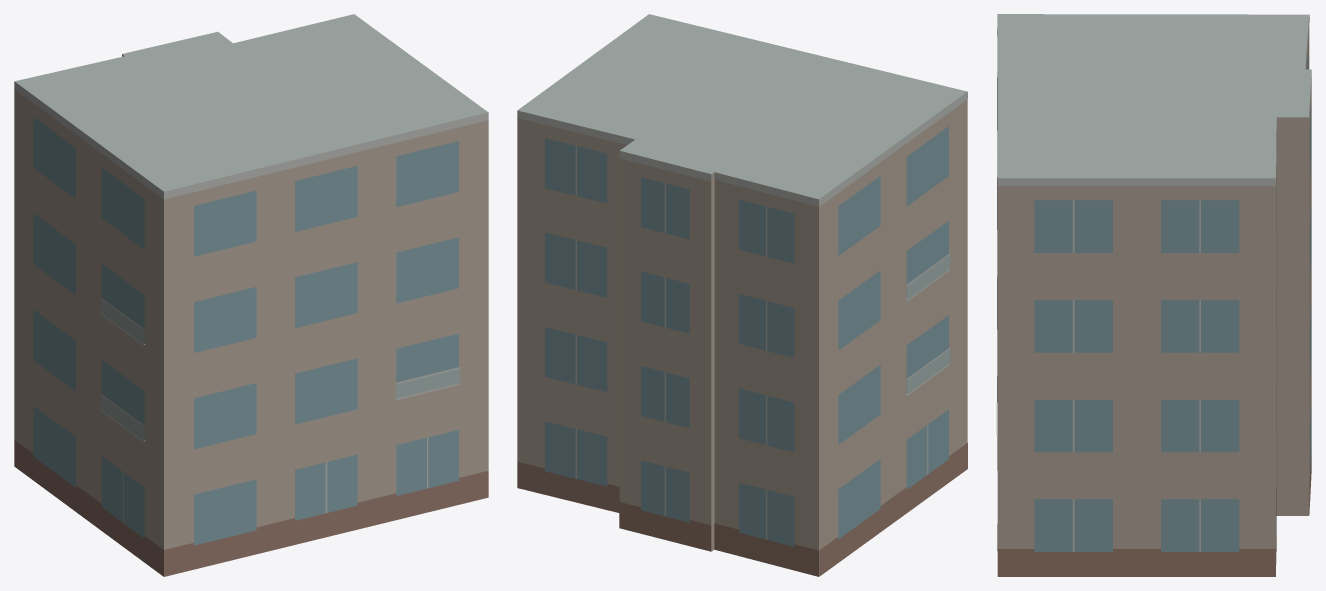
File: survey-upis-32779961.glb
3 views of the same model, side by side, from view 1: azimuth 30°, elevation 25°; view 2: azimuth 150°, elevation 25°; view 3: azimuth 270°, elevation 25° (orthographic). The views are drawn at different scales.
Visible parts, largest first — view 1: survey-upis-32779961.tmp; view 2: survey-upis-32779961.tmp; view 3: survey-upis-32779961.tmp.
Part boxes in pixels (x1,y1,x2,y2): survey-upis-32779961.tmp: [14, 14, 488, 576]; survey-upis-32779961.tmp: [517, 14, 967, 576]; survey-upis-32779961.tmp: [996, 14, 1311, 576].
Bounding box in the file's own units: 10.81 × 12.2 × 8.75.
